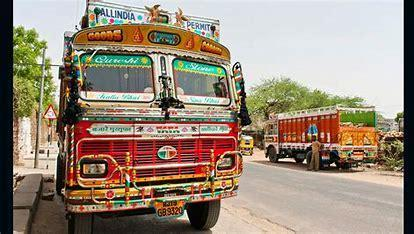truck: (42, 0, 257, 221), (267, 108, 387, 176)
